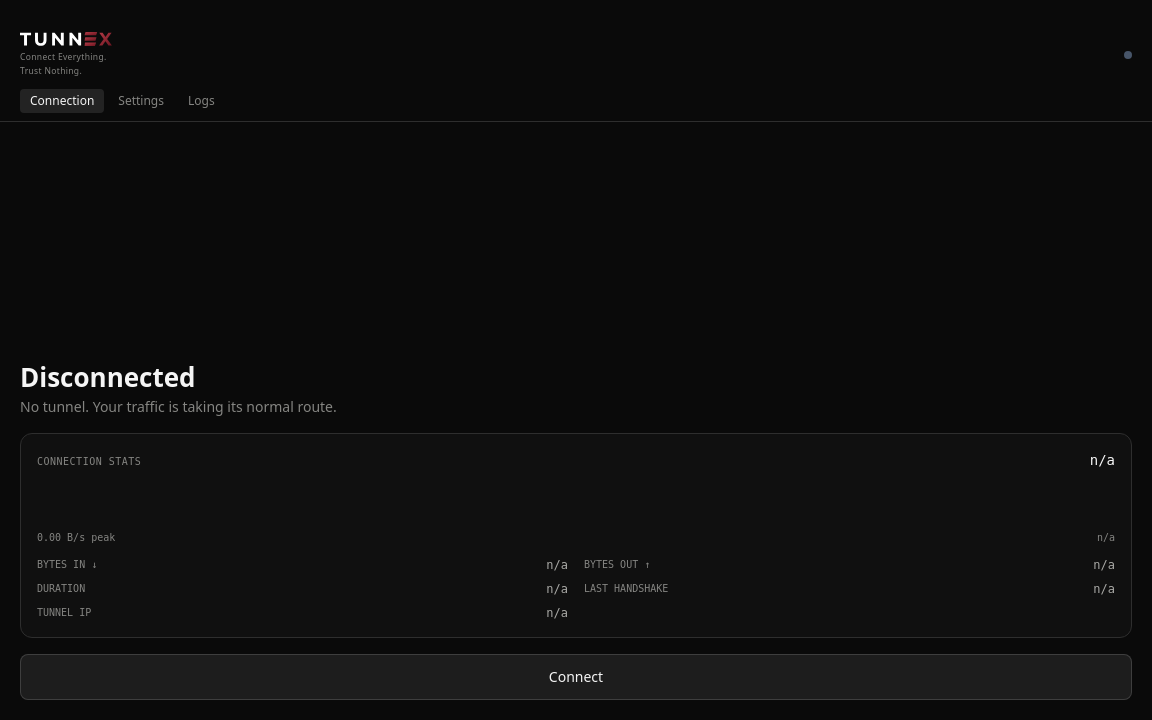
routing mode and the server, both reachable and both unambiguous › ⛔ NO checkbox whose label is the OPPOSITE of what it sets
This screenshot has width=1152, height=720.
Click the button "Settings" at point(141, 101), box [108,89,174,113]
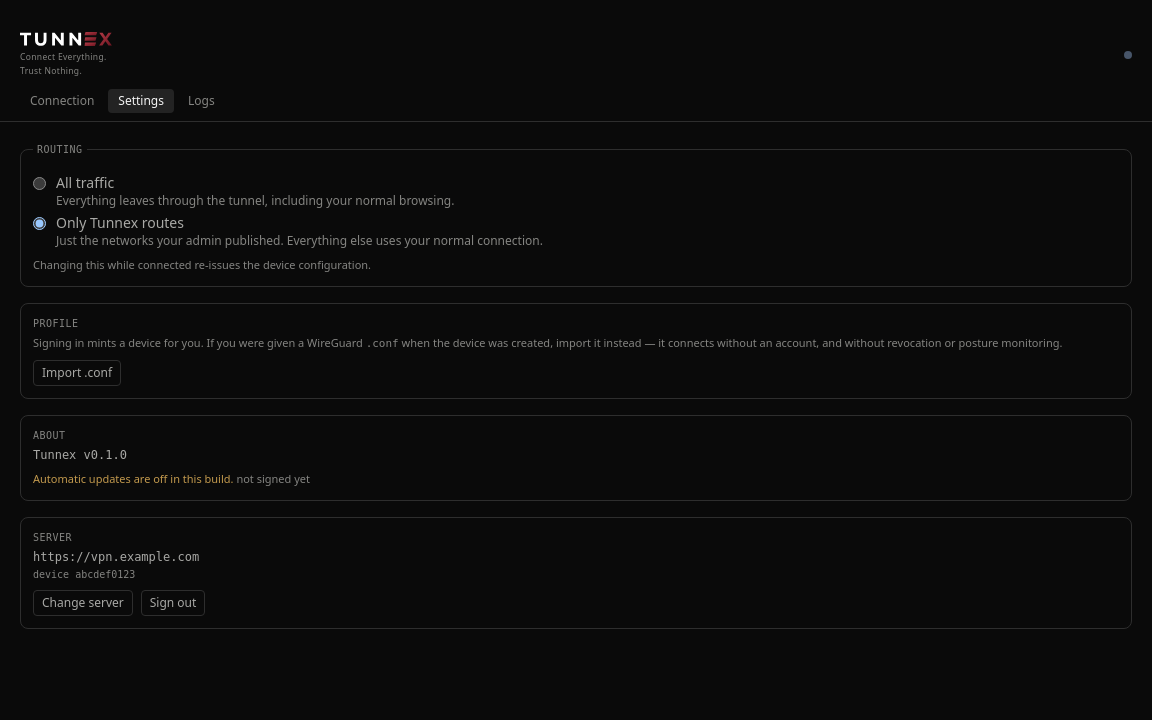
Expected: the number of radio buttons named "routing" is 2, [33,177,46,190]; [33,217,46,230]
Expected: the text "All traffic" is shown, [56,173,114,192]
Expected: the text "Only Tunnex routes" is shown, [56,213,184,232]
